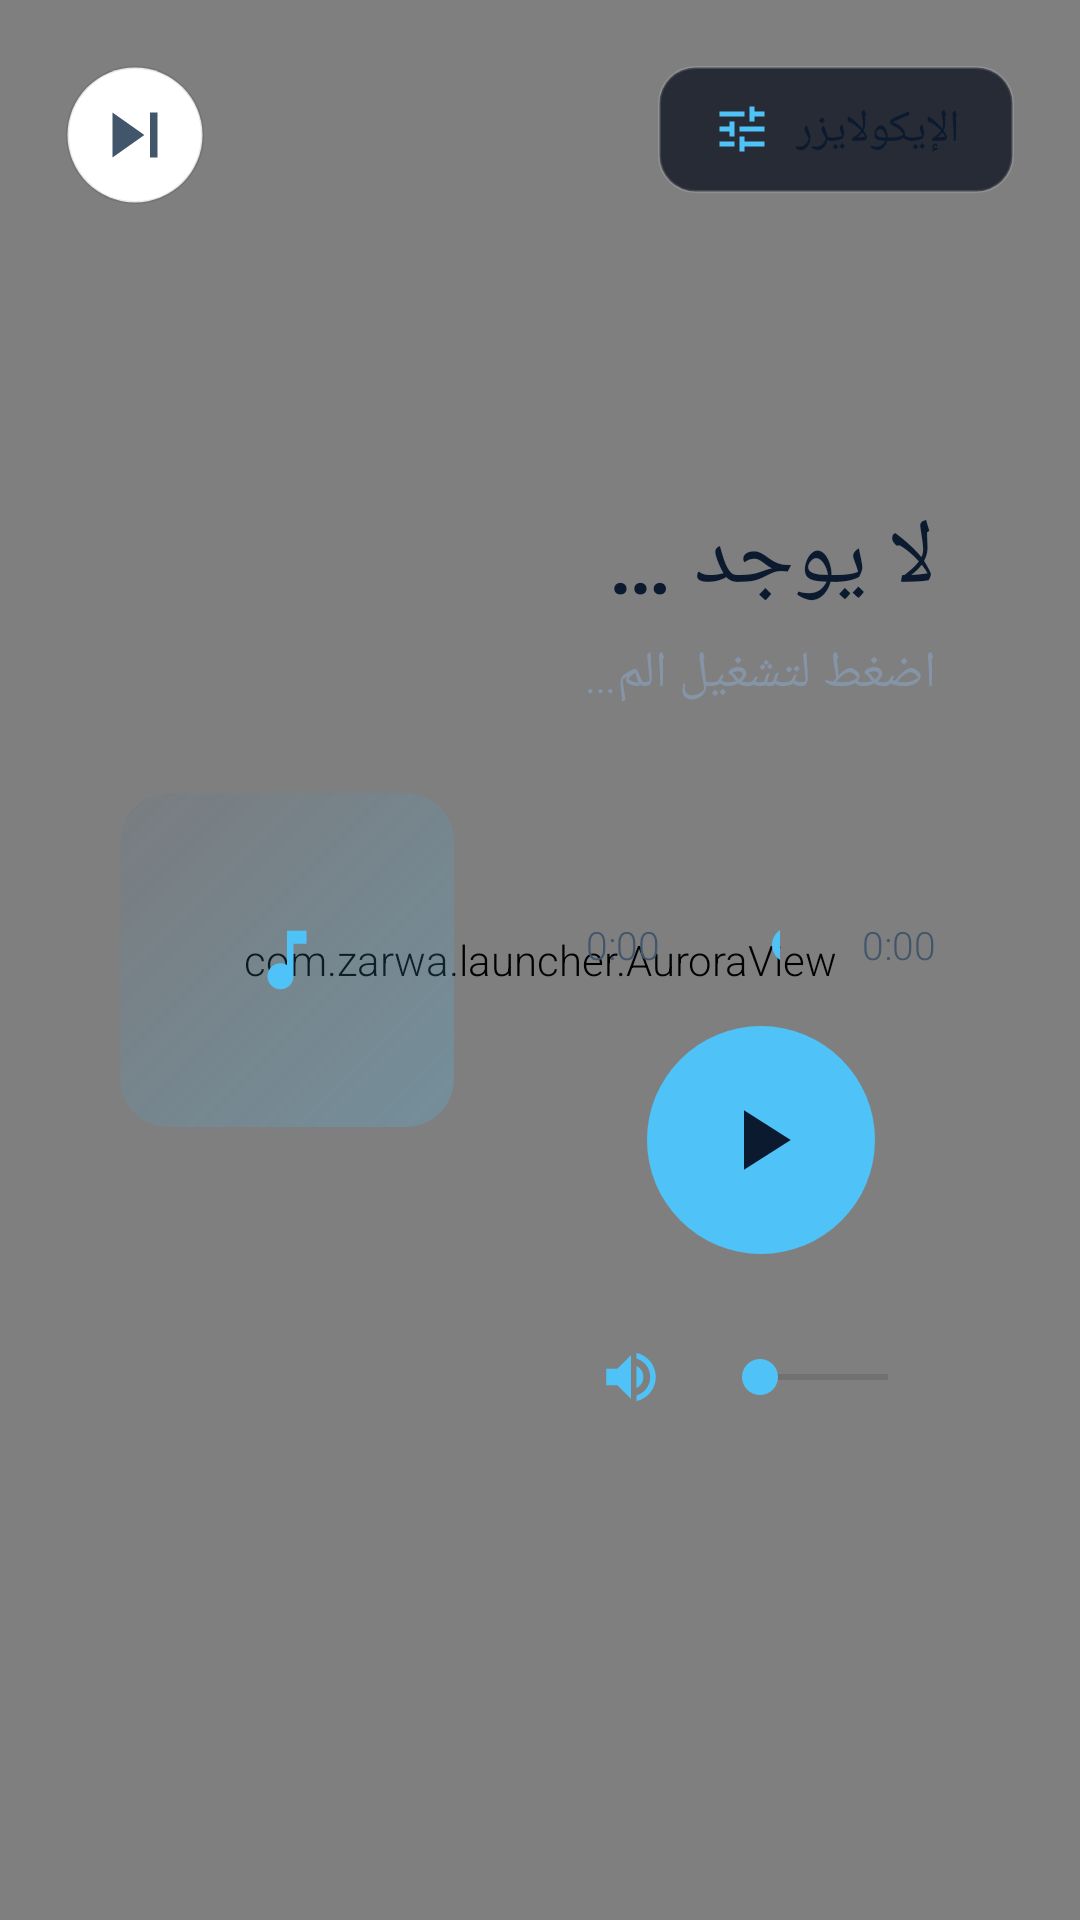

Where to tap for icons on this 1080 × 1920 app screen, as [x,y]:
control: [742,129]
play: [761,1140]
